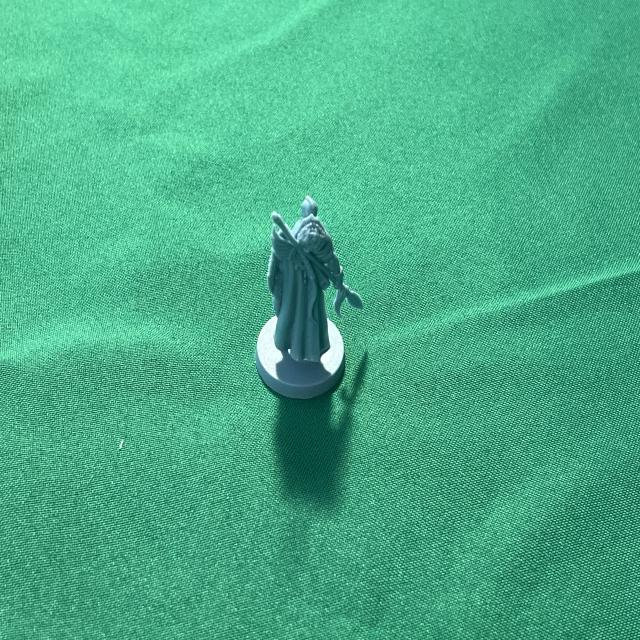isis_follower: (254, 188, 367, 408)
